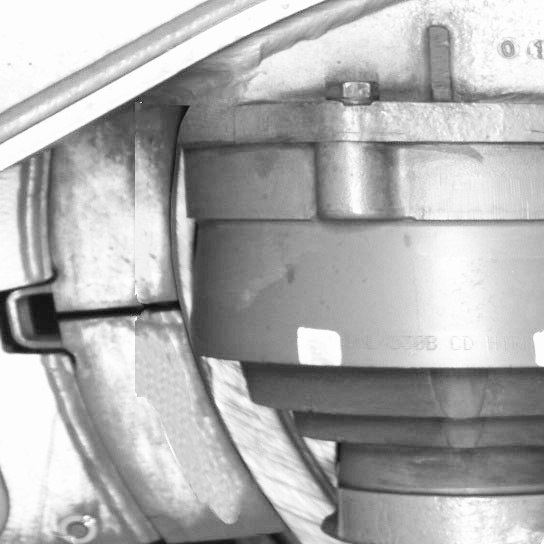ClosedKnifeSwitch: (56, 145, 309, 543)
